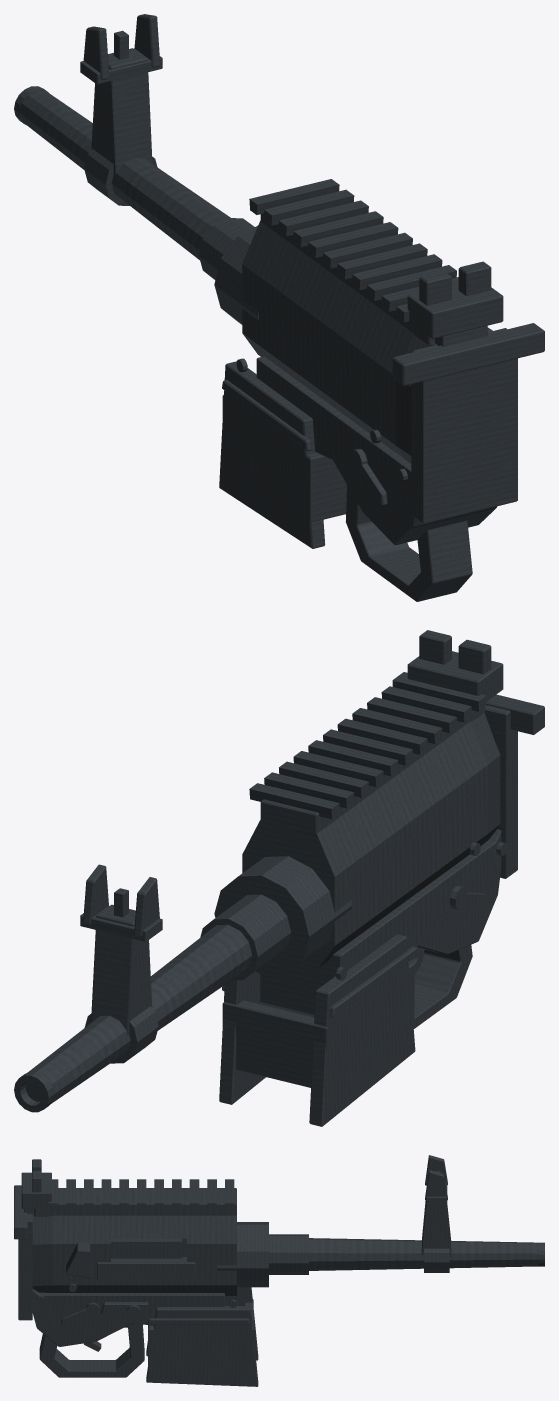
The model's file is weapon_mpx.glb.
3 renders of one model, top to bottom at view 1: azimuth 30°, elevation 25°; view 2: azimuth 150°, elevation 25°; view 3: azimuth 270°, elevation 25°, orthographic. The views are drawn at different scales.
Parts seen in each view (by area): view 1: body_LOD0, action_LOD0; view 2: body_LOD0, action_LOD0; view 3: body_LOD0, action_LOD0.
Part boxes in pixels (bbox=[...]): body_LOD0: bbox=[14, 14, 517, 601]; action_LOD0: bbox=[392, 323, 544, 385]; body_LOD0: bbox=[14, 630, 517, 1126]; action_LOD0: bbox=[392, 672, 544, 734]; body_LOD0: bbox=[18, 1155, 544, 1386]; action_LOD0: bbox=[14, 1185, 182, 1258].
Size of what is drawn, in the model's own units: 0.124 by 0.2877 by 0.6635.
Materials: 1 (1 with a texture image).
